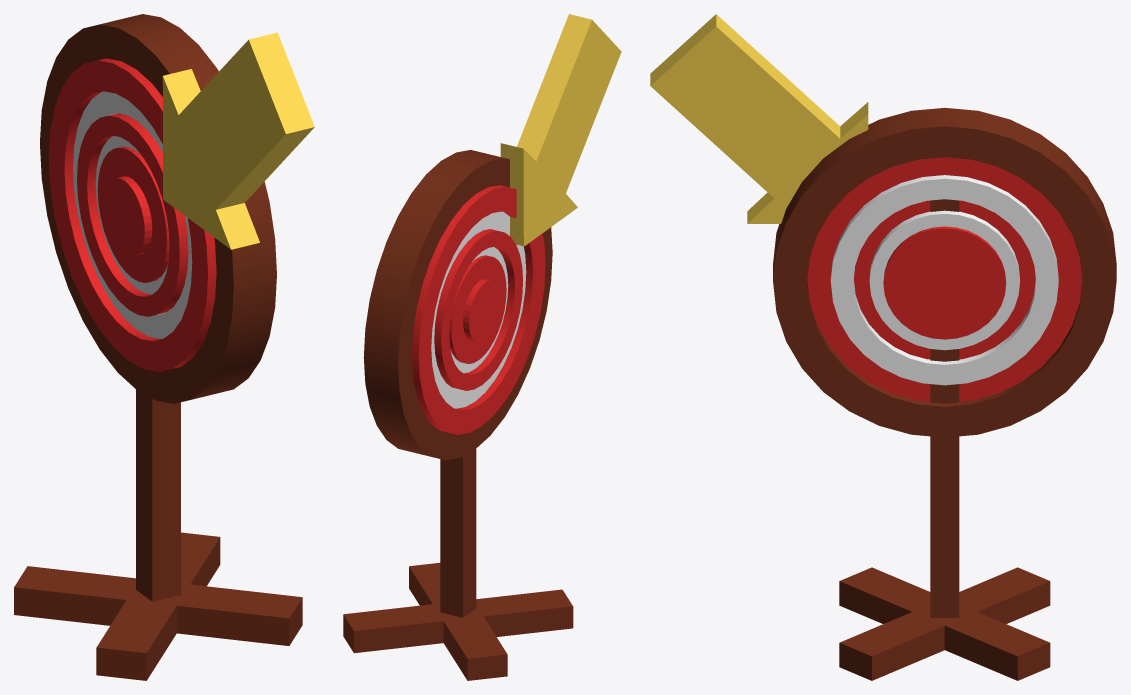
File: Target_Kikl.fbx
3 renders of one model, left to right at view 1: azimuth 30°, elevation 25°; view 2: azimuth 150°, elevation 25°; view 3: azimuth 270°, elevation 25°, orthographic. The views are drawn at different scales.
Visible parts, largest first — view 1: Cylinder.005, Cube.015, Cylinder.006, Cube.013, Cube.012, Cylinder.008, Cylinder.010, Cube.014, Cylinder.007, Cylinder.009; view 2: Cylinder.005, Cube.015, Cylinder.006, Cube.014, Cube.012, Cylinder.008, Cylinder.010, Cube.013, Cylinder.007, Cylinder.009; view 3: Cylinder.005, Cube.015, Cylinder.007, Cylinder.006, Cylinder.010, Cube.013, Cube.014, Cube.012, Cylinder.008, Cylinder.009.
Boxes of the visible parts, x1,y1,x2,y2 form: Cylinder.005: [40, 14, 276, 403]; Cube.015: [162, 32, 314, 249]; Cylinder.006: [48, 58, 216, 371]; Cube.013: [14, 566, 302, 645]; Cube.012: [136, 389, 180, 601]; Cylinder.008: [77, 113, 188, 316]; Cylinder.010: [97, 146, 169, 282]; Cube.014: [96, 532, 220, 680]; Cylinder.007: [73, 91, 192, 338]; Cylinder.009: [95, 136, 167, 294]; Cylinder.005: [363, 150, 552, 460]; Cube.015: [500, 14, 621, 246]; Cylinder.006: [412, 185, 545, 434]; Cube.014: [343, 589, 573, 653]; Cube.012: [440, 449, 476, 617]; Cylinder.008: [434, 229, 522, 390]; Cylinder.010: [449, 255, 506, 363]; Cube.013: [409, 562, 507, 680]; Cylinder.007: [431, 211, 526, 408]; Cylinder.009: [450, 247, 508, 373]; Cylinder.005: [773, 107, 1116, 437]; Cube.015: [650, 14, 868, 223]; Cylinder.007: [830, 175, 1058, 385]; Cylinder.006: [807, 157, 1082, 401]; Cylinder.010: [883, 226, 1006, 339]; Cube.013: [839, 567, 1050, 680]; Cube.014: [839, 567, 1050, 680]; Cube.012: [930, 199, 959, 617]; Cylinder.008: [854, 200, 1035, 359]; Cylinder.009: [869, 210, 1019, 350].
Bounding box in the file's own units: 123 × 389 × 271.
